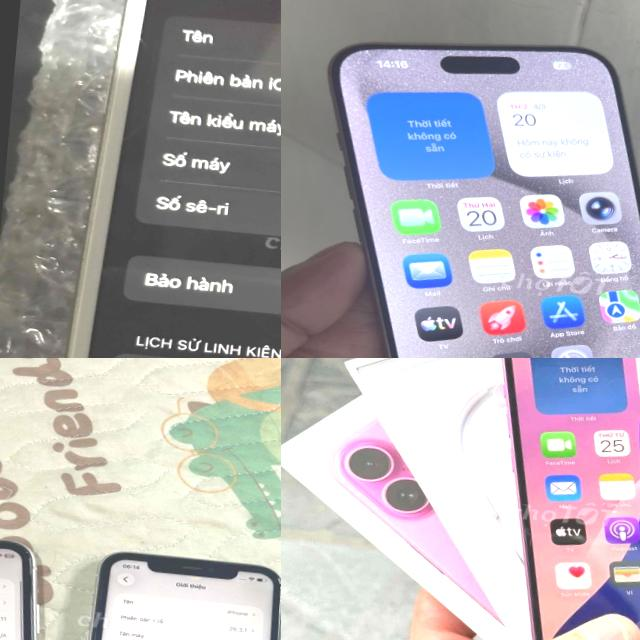gen_11: (54, 532, 281, 640)
gen_15: (287, 22, 640, 358)
gen_16: (455, 358, 640, 640)
gen_7_8: (45, 0, 281, 358)
